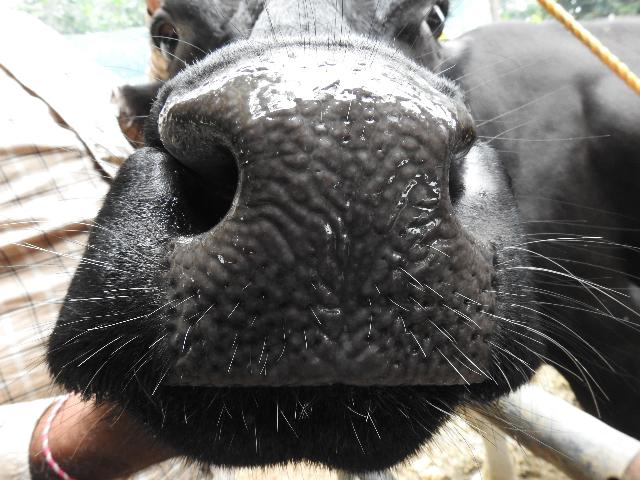Muzzle: (246, 76, 456, 374)
